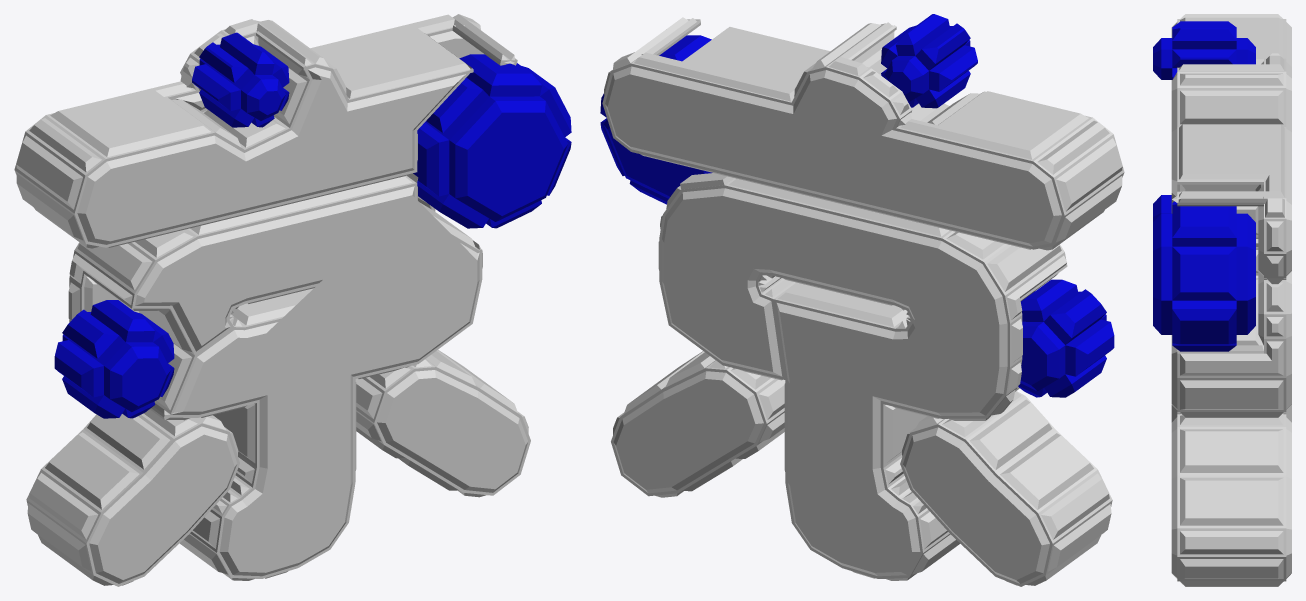
The model's file is Ch_China_京_01.fbx.
3 renders of one model, left to right at view 1: azimuth 30°, elevation 25°; view 2: azimuth 150°, elevation 25°; view 3: azimuth 270°, elevation 25°, orthographic. The views are drawn at different scales.
Parts seen in each view (by area): view 1: sphere1; view 2: sphere1; view 3: sphere1.
Boxes of the visible parts, <box> form: sphere1: <box>14,14,571,586</box>; sphere1: <box>600,14,1124,586</box>; sphere1: <box>1153,14,1291,586</box>.
Bounding box in the file's own units: 0.9608 × 0.9725 × 0.2541.
